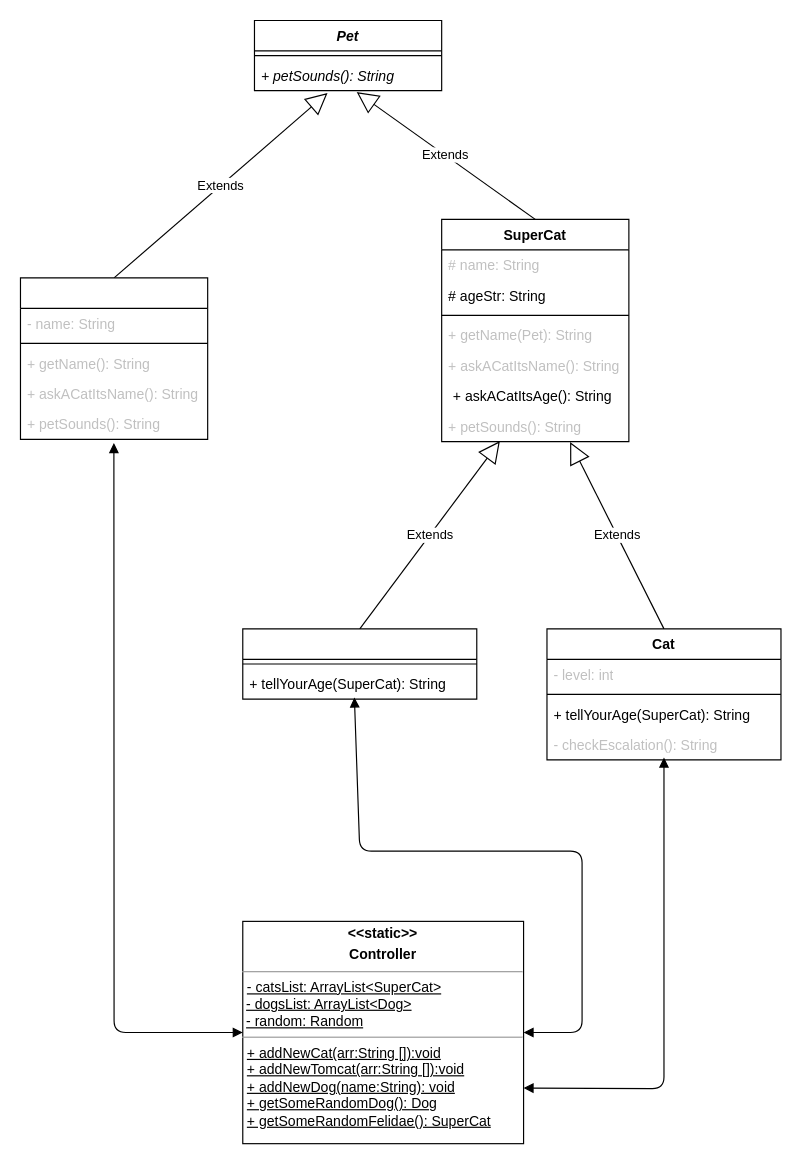
This 801x1164 diagram has some shape labels left out. Here are the shapes that lost their labels. From the top down, the box of each, then its label:
(19, 277, 208, 439): Dog
(242, 628, 477, 699): Tomcat
